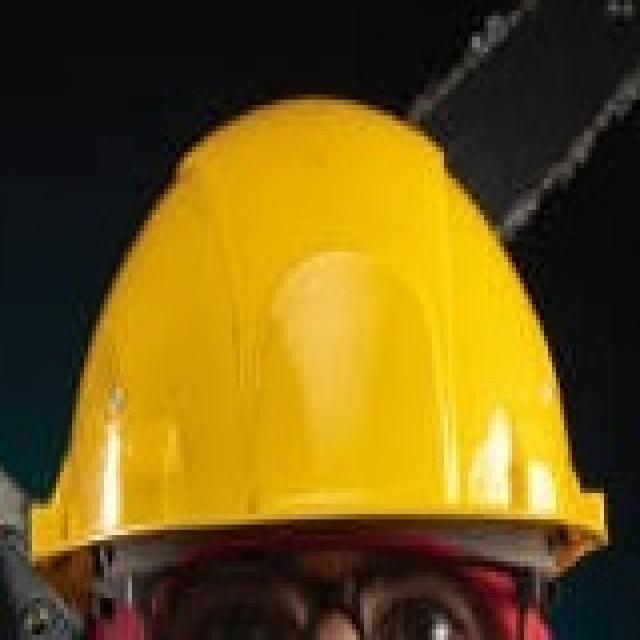Helmet: (4, 3, 636, 638), (112, 107, 598, 562)
